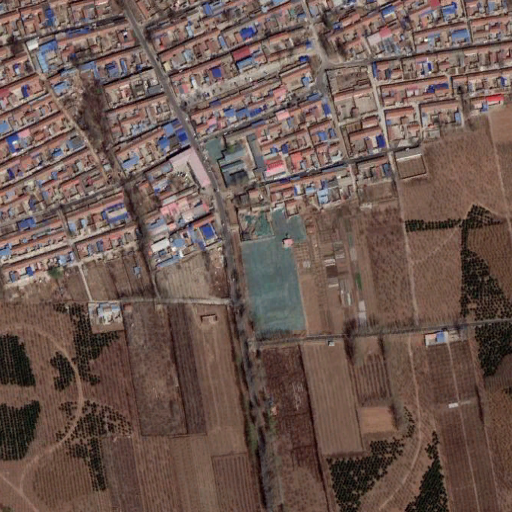cw: (238, 205, 311, 343)
